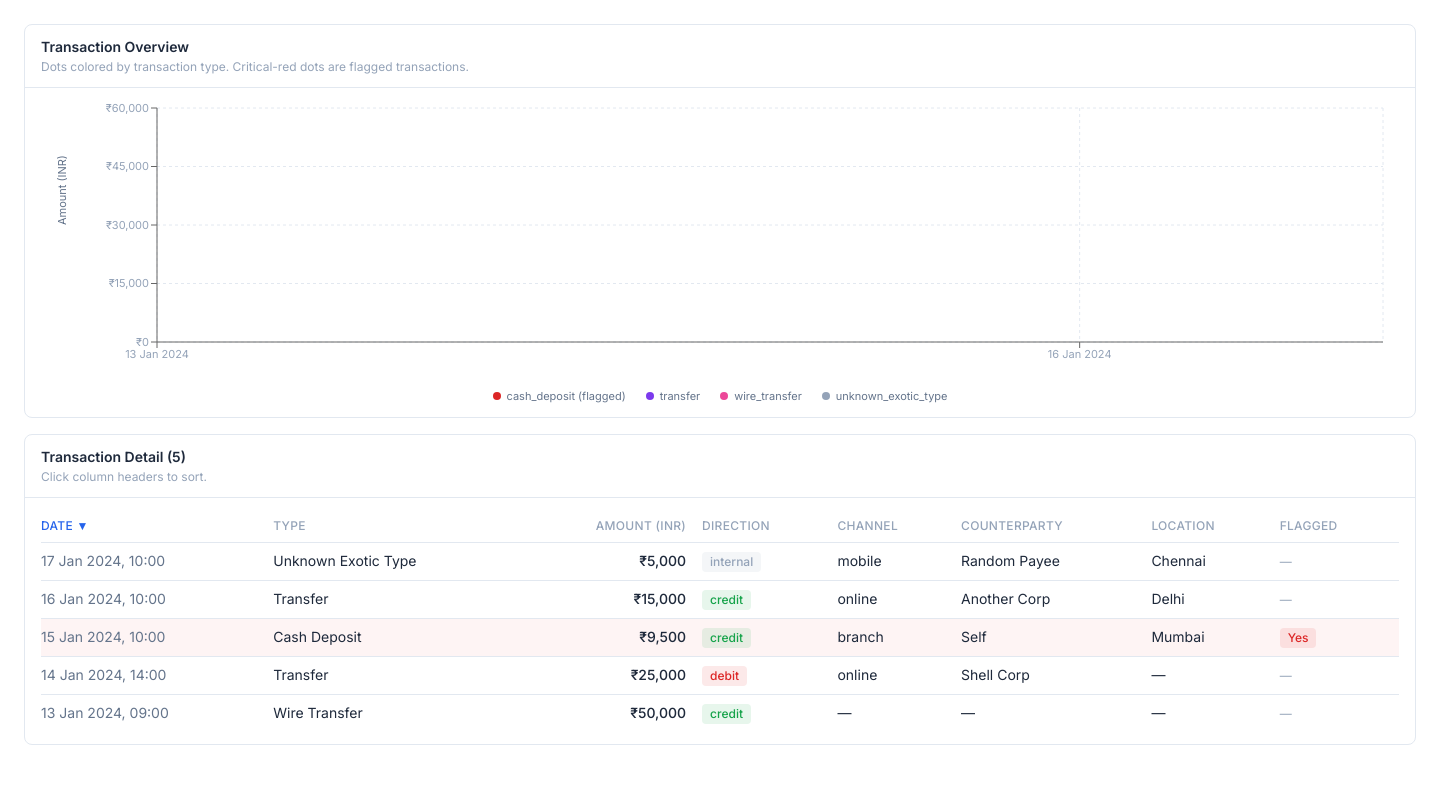
Test case: TransactionTimeline › sorts by Type column
The image size is (1440, 810).
Step 1. Click the column heading "Type" → (289, 525), box x1=273 y1=510 x2=530 y2=542
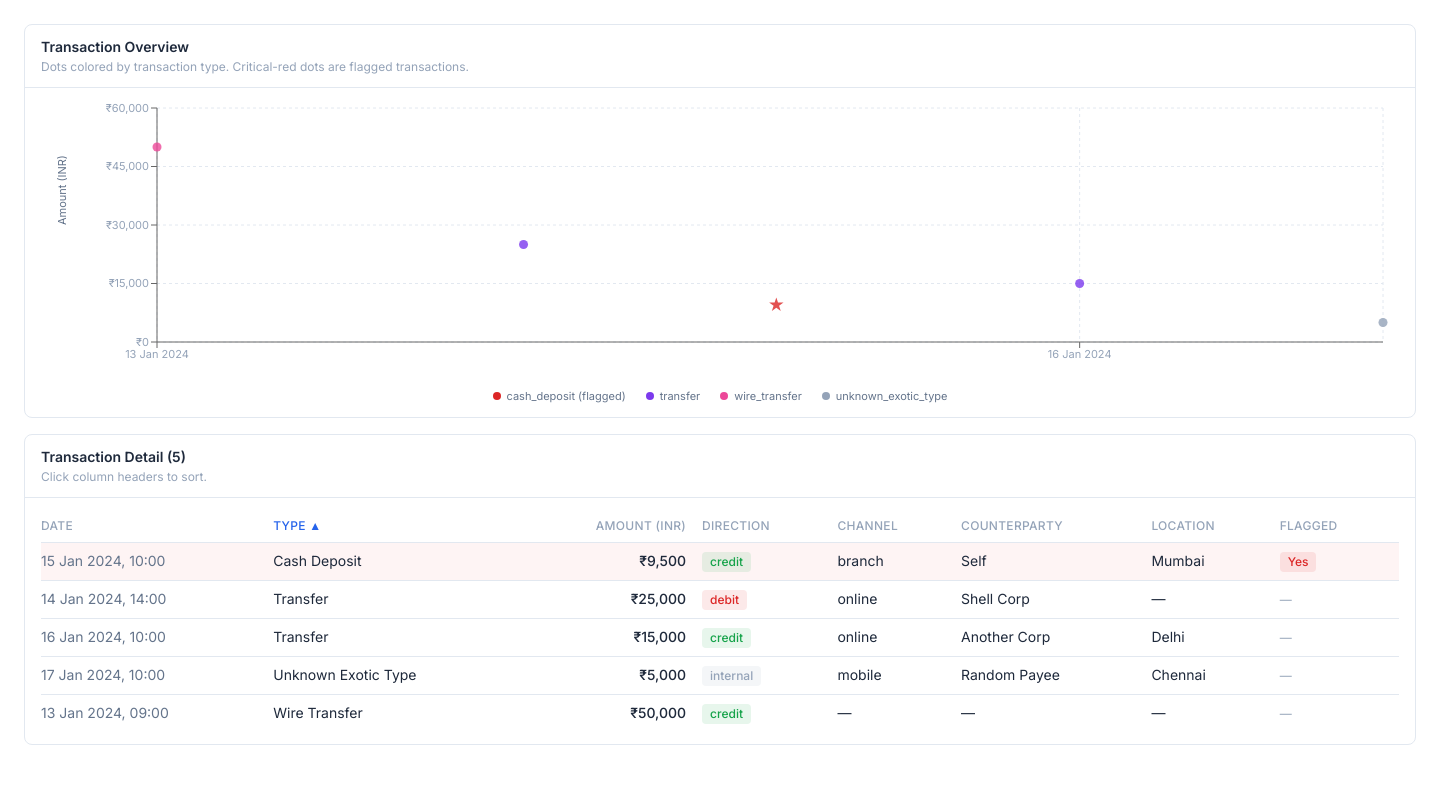
Result: the column heading "Type ▲" is shown at x1=273 y1=510 x2=530 y2=542
